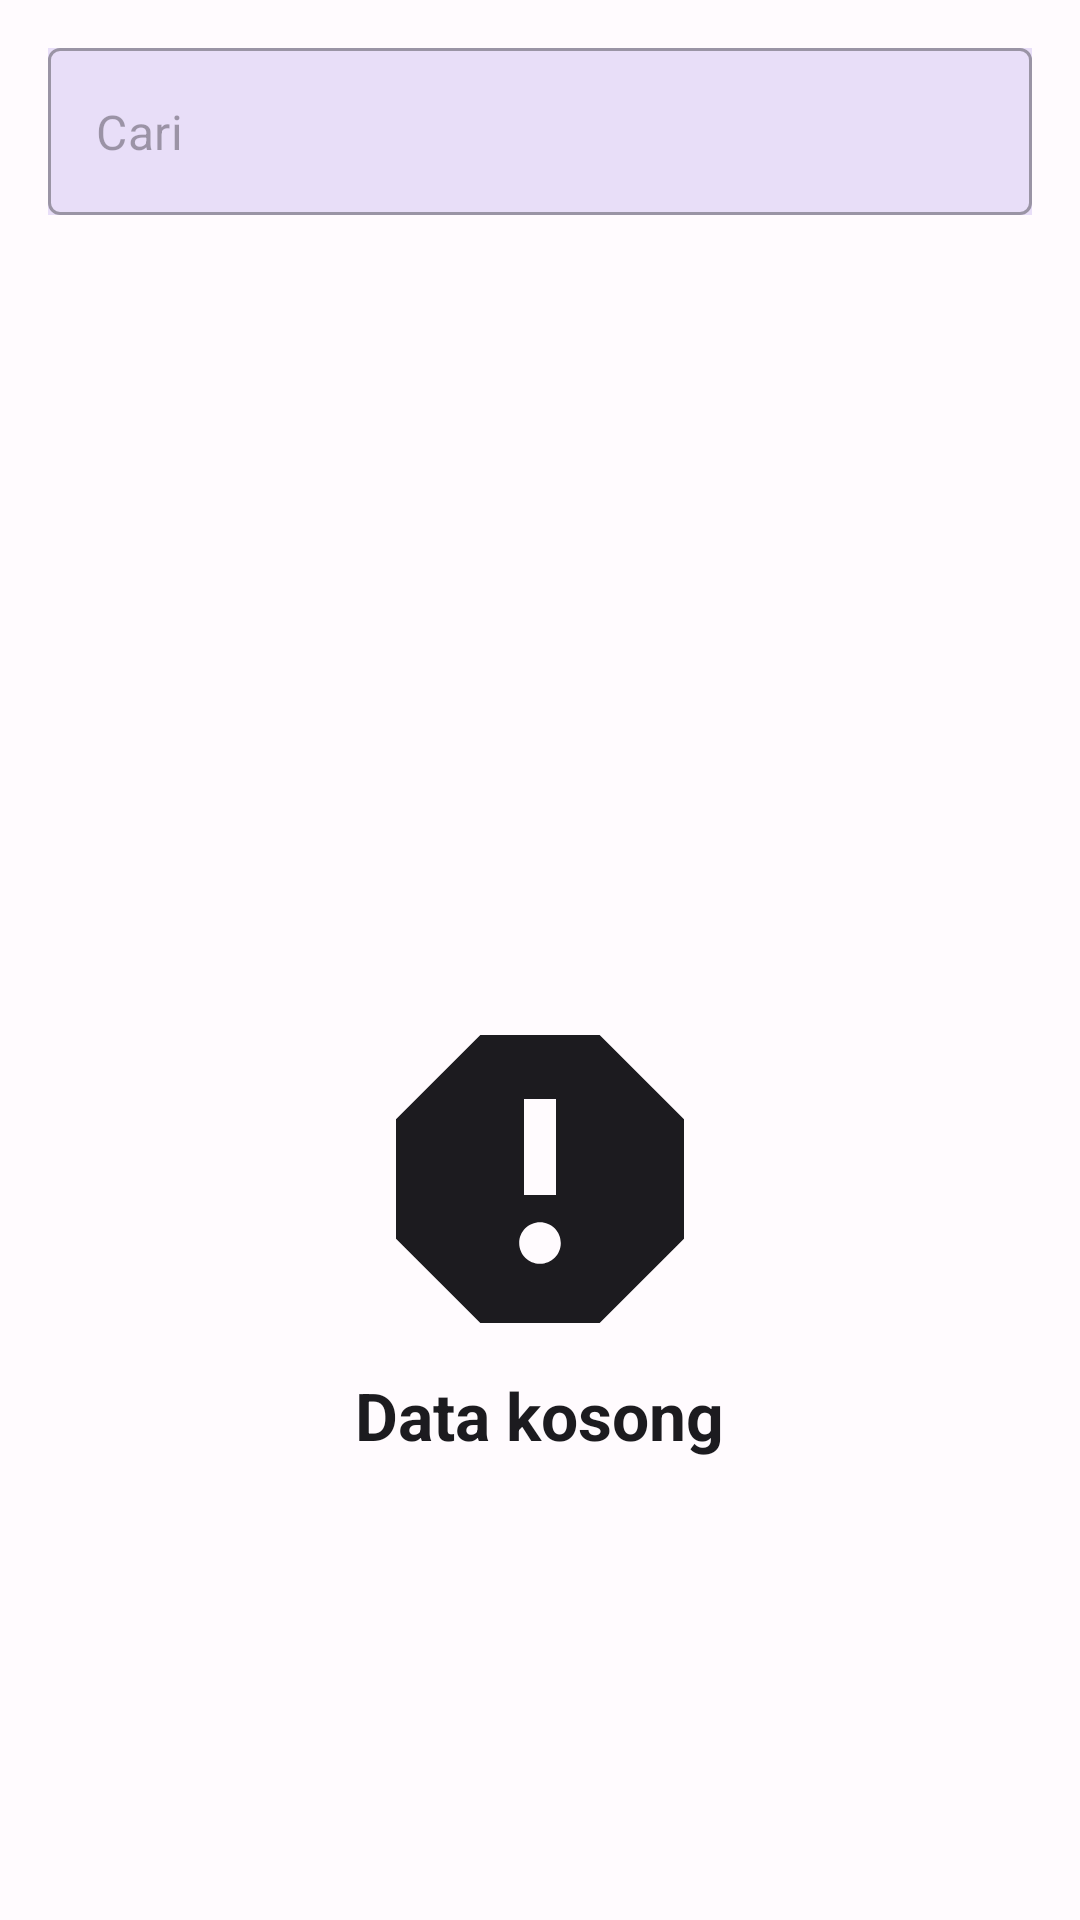

Where icons sit on this 1080px x 1920px app screen, as bbox=(x1, y1, x2, y2):
report: bbox=(396, 1035, 684, 1323)
